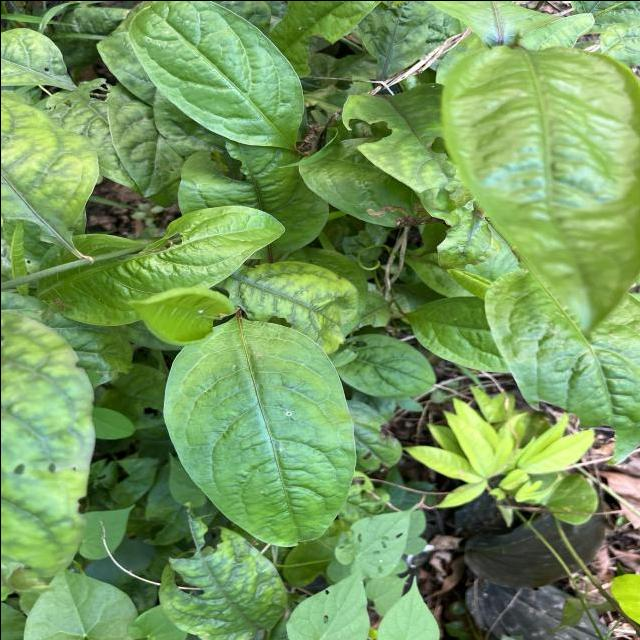Plumbago indica: (157, 315, 356, 550), (125, 0, 305, 152)
